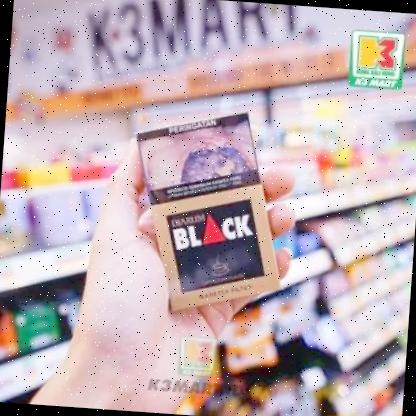bungkus rokok: (120, 98, 296, 320)
